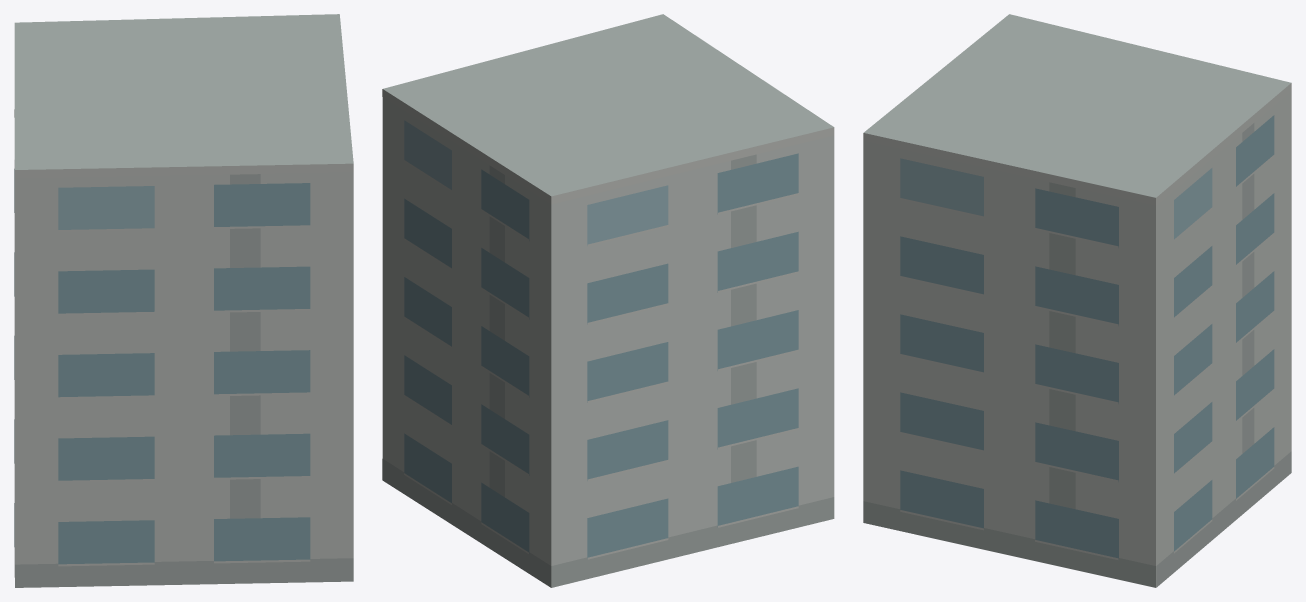
File: survey-upis-32729603.glb
3 renders of one model, left to right at view 1: azimuth 30°, elevation 25°; view 2: azimuth 150°, elevation 25°; view 3: azimuth 270°, elevation 25°, orthographic. The views are drawn at different scales.
Parts seen in each view (by area): view 1: survey-upis-32729603.tmp; view 2: survey-upis-32729603.tmp; view 3: survey-upis-32729603.tmp.
Boxes of the visible parts, bbox=[...] form: survey-upis-32729603.tmp: bbox=[14, 14, 353, 587]; survey-upis-32729603.tmp: bbox=[382, 14, 834, 587]; survey-upis-32729603.tmp: bbox=[863, 14, 1291, 587].
Bounding box in the file's own units: 11.84 × 11.7 × 11.65.
